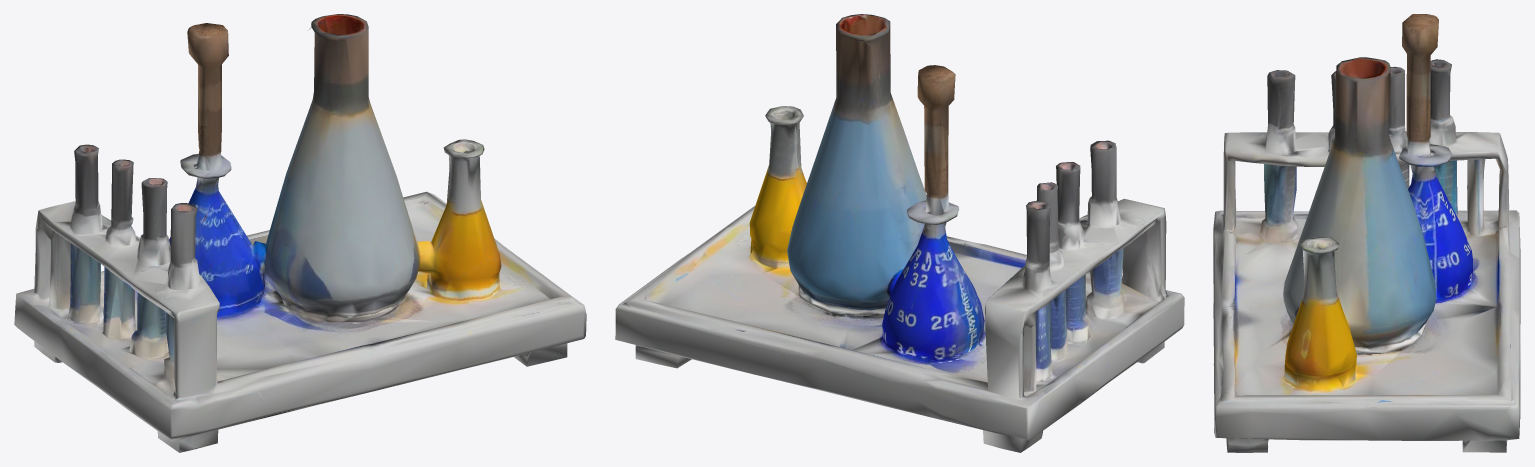
3 renders of one model, left to right at view 1: azimuth 30°, elevation 25°; view 2: azimuth 150°, elevation 25°; view 3: azimuth 270°, elevation 25°, orthographic. The views are drawn at different scales.
Size of the model in its own units: 2 by 1.47 by 1.31.
1 material, 1 textured.
